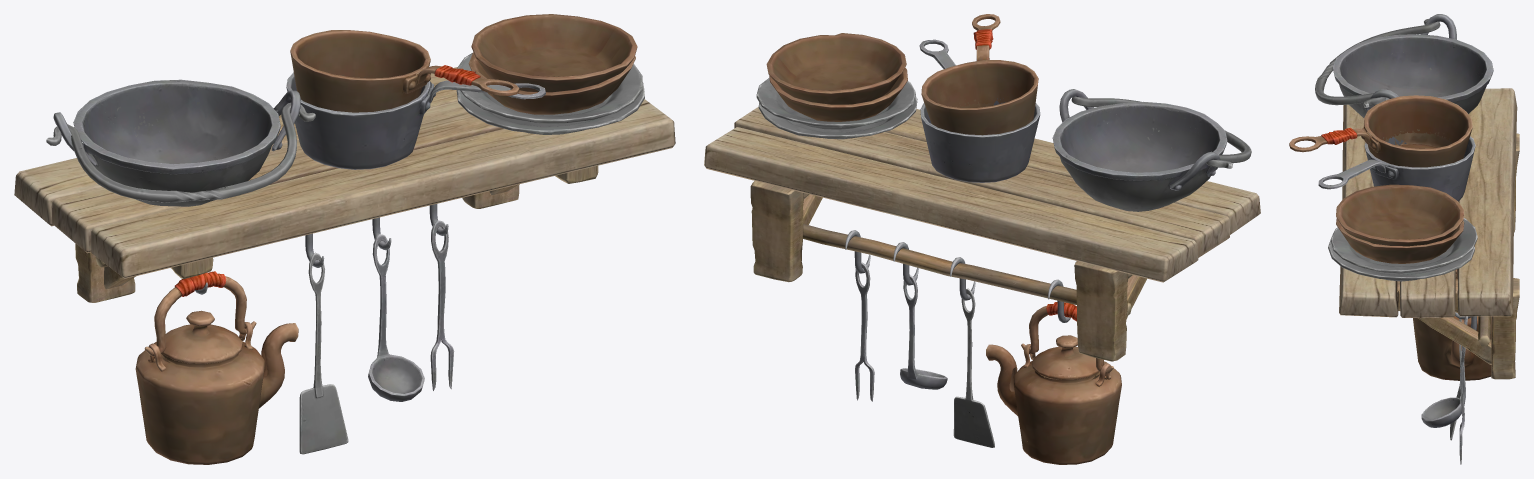
3 views of the same model, side by side, from view 1: azimuth 30°, elevation 25°; view 2: azimuth 150°, elevation 25°; view 3: azimuth 270°, elevation 25° (orthographic). The views are drawn at different scales.
Parts seen in each view (by area): view 1: SM_Dec_Kitchen_Shelves_02_LOD0; view 2: SM_Dec_Kitchen_Shelves_02_LOD0; view 3: SM_Dec_Kitchen_Shelves_02_LOD0.
Part boxes in pixels (box(x1,y1,x2,y2)): SM_Dec_Kitchen_Shelves_02_LOD0: box(14, 14, 675, 464); SM_Dec_Kitchen_Shelves_02_LOD0: box(704, 14, 1260, 464); SM_Dec_Kitchen_Shelves_02_LOD0: box(1289, 14, 1519, 464).
Bounding box in the file's own units: 1.73 × 1.2 × 0.7717.
Materials: 3 (3 with a texture image).
